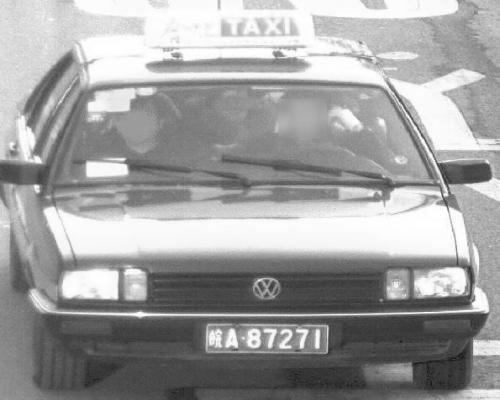Carplate: (197, 315, 338, 360)
